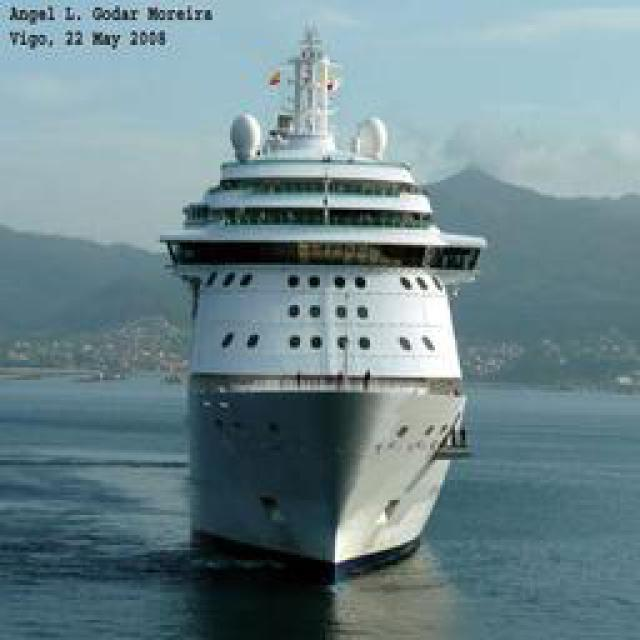Ship: (164, 31, 484, 571)
